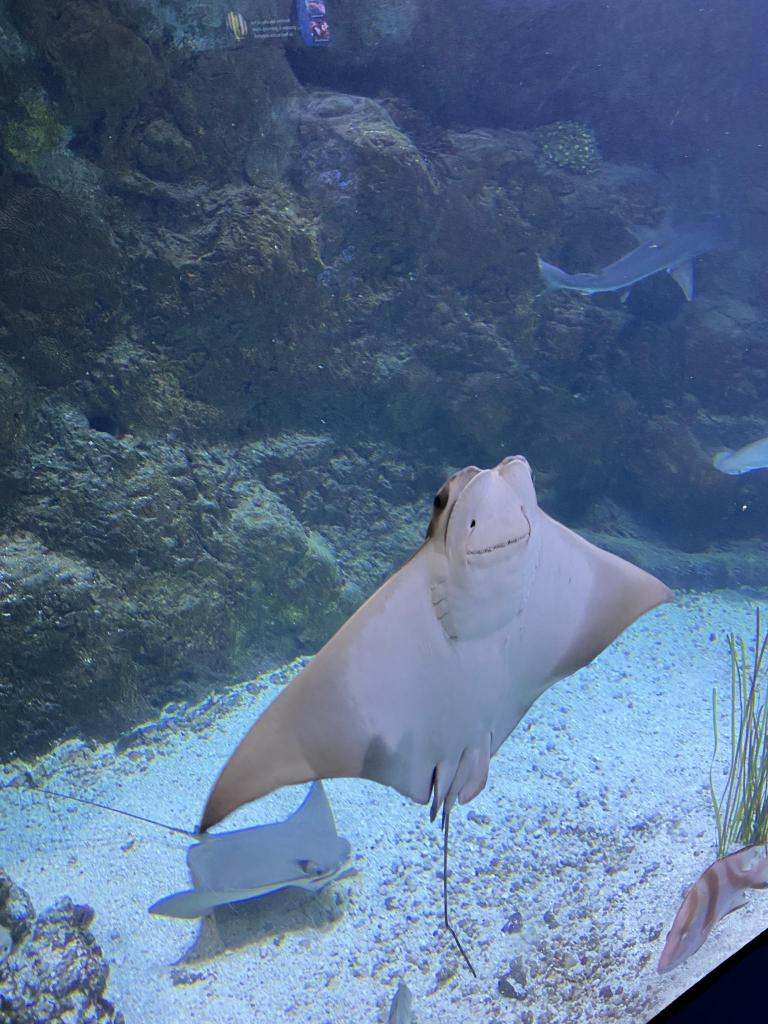fish: (657, 844, 767, 976)
shark: (536, 220, 716, 302), (712, 435, 768, 475)
stingray: (200, 454, 674, 830), (148, 779, 352, 919)
